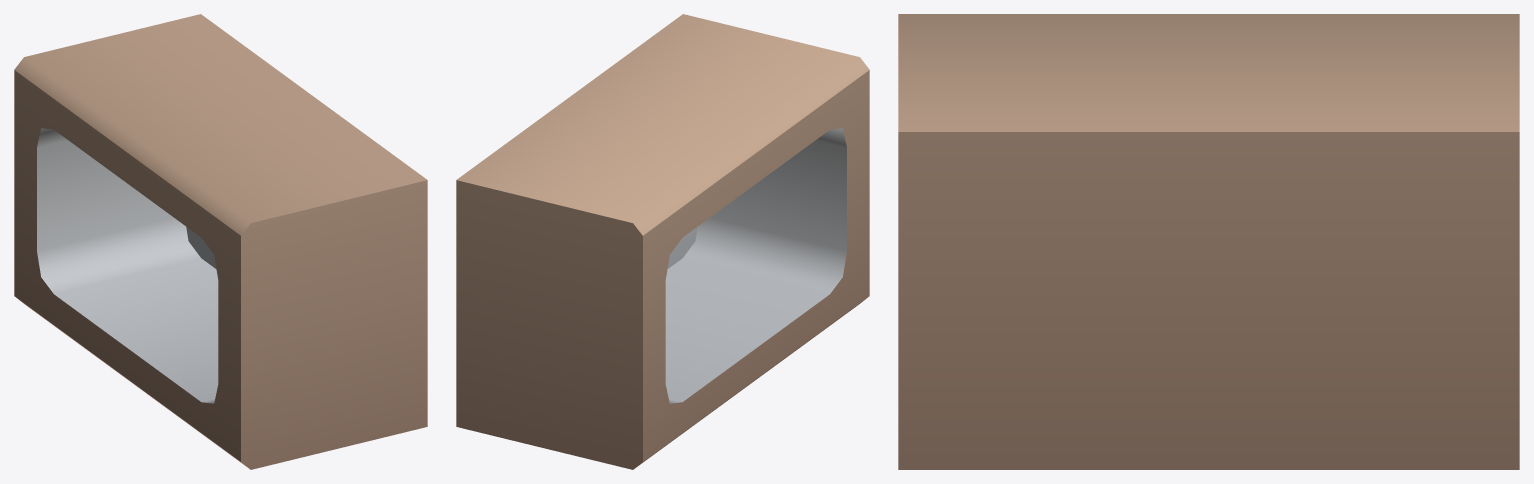
The model's file is cabinet-basic-upper-short (%wall).glb.
3 views of the same model, side by side, from view 1: azimuth 30°, elevation 25°; view 2: azimuth 150°, elevation 25°; view 3: azimuth 270°, elevation 25° (orthographic). The views are drawn at different scales.
Visible parts, largest first — view 1: cabinet-basic-upper-short (%wall); view 2: cabinet-basic-upper-short (%wall); view 3: cabinet-basic-upper-short (%wall).
Boxes of the visible parts, left/top/right/bottom form: cabinet-basic-upper-short (%wall): left=14, top=14, right=427, bottom=469; cabinet-basic-upper-short (%wall): left=456, top=14, right=869, bottom=469; cabinet-basic-upper-short (%wall): left=898, top=14, right=1519, bottom=469.
Size of the model in its own units: 0.2375 by 0.3 by 0.5.
